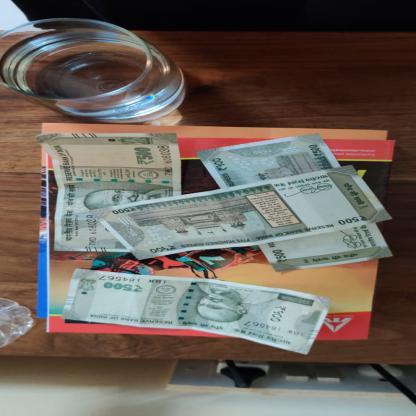New500Back: (87, 164, 394, 260), (195, 132, 398, 272)
New500Front: (60, 268, 331, 355), (35, 132, 182, 253)
